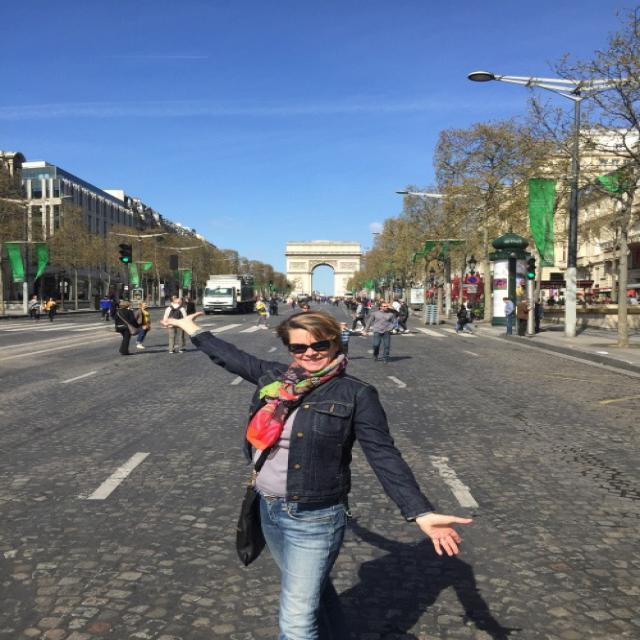body: (156, 307, 479, 639), (357, 300, 402, 365), (253, 292, 383, 308), (110, 298, 141, 356), (161, 297, 188, 354), (541, 290, 639, 305), (163, 296, 186, 341), (132, 300, 152, 350), (512, 295, 535, 337), (338, 320, 363, 357), (92, 291, 183, 300), (451, 306, 476, 335), (347, 296, 367, 332), (526, 297, 545, 334), (500, 295, 516, 336), (251, 296, 271, 328), (397, 300, 411, 334), (97, 294, 113, 322), (458, 296, 475, 322), (27, 294, 42, 322), (43, 296, 59, 322), (422, 296, 463, 305), (183, 298, 197, 316), (389, 296, 403, 313), (626, 293, 639, 305), (545, 296, 558, 307), (300, 303, 310, 313)
